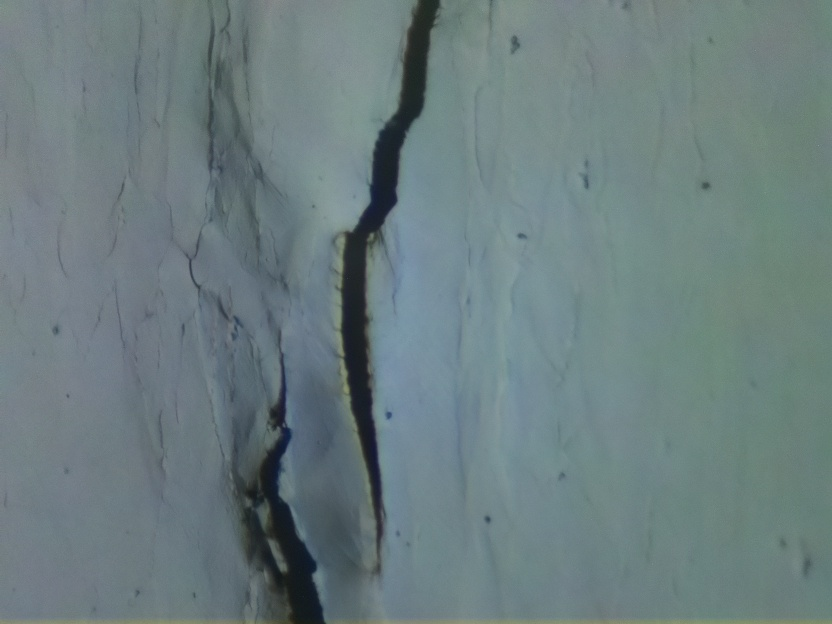crack: (340, 0, 441, 575), (237, 324, 324, 624)
